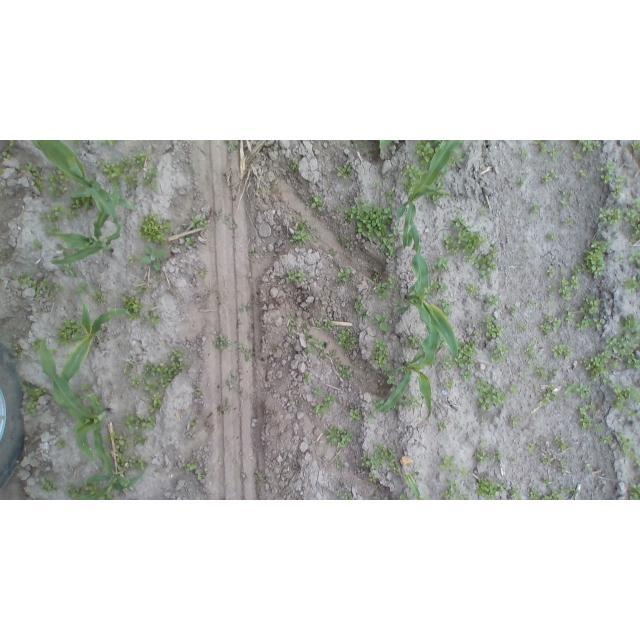Maize: (33, 141, 138, 242), (41, 333, 112, 467), (393, 247, 460, 358), (397, 141, 463, 252), (381, 302, 439, 419), (48, 183, 122, 266), (62, 305, 127, 382), (80, 472, 141, 500), (404, 474, 422, 499), (378, 141, 392, 148)
Weeds: (585, 311, 640, 383), (344, 198, 400, 263), (146, 347, 186, 415), (94, 152, 160, 192), (442, 213, 490, 263), (361, 443, 401, 482), (599, 206, 640, 243), (13, 271, 63, 300), (110, 433, 147, 472), (476, 377, 507, 412), (455, 336, 477, 384), (140, 212, 173, 244), (125, 413, 156, 447), (583, 242, 611, 279), (579, 293, 604, 330), (559, 266, 584, 301), (21, 380, 43, 419), (611, 383, 640, 412), (57, 314, 81, 347), (140, 245, 168, 272), (474, 474, 504, 499), (326, 424, 355, 449), (23, 161, 44, 194), (40, 206, 76, 225), (526, 488, 577, 501), (620, 434, 640, 467), (289, 218, 312, 246), (439, 479, 470, 499), (337, 328, 359, 356), (402, 163, 423, 192), (49, 170, 70, 197), (576, 402, 597, 429), (372, 339, 390, 370), (122, 293, 143, 319), (541, 314, 563, 338), (312, 394, 335, 416), (319, 343, 340, 366), (414, 140, 432, 166), (482, 317, 502, 340), (563, 380, 590, 396), (491, 343, 510, 365), (181, 214, 208, 228), (371, 313, 390, 332), (471, 443, 490, 462), (621, 273, 639, 293), (551, 344, 573, 360), (614, 174, 627, 200), (539, 387, 558, 404), (287, 269, 307, 285), (402, 395, 423, 410), (143, 306, 161, 323), (286, 317, 303, 335), (525, 340, 539, 361), (429, 276, 447, 292), (214, 333, 230, 351), (334, 162, 352, 178), (601, 163, 616, 182), (72, 197, 92, 211), (0, 141, 16, 158), (336, 267, 351, 285), (59, 264, 79, 277), (433, 253, 449, 269), (42, 476, 58, 492), (316, 316, 334, 330), (507, 412, 522, 428), (576, 140, 600, 150), (338, 367, 354, 382), (348, 406, 362, 423), (310, 193, 323, 211), (374, 283, 387, 301), (628, 247, 640, 266), (552, 433, 566, 449), (628, 482, 640, 500), (564, 307, 576, 325), (449, 150, 463, 165), (440, 456, 454, 471), (485, 294, 501, 307), (368, 265, 381, 281), (441, 297, 454, 313), (304, 334, 316, 351), (535, 363, 546, 381), (84, 482, 98, 496), (441, 355, 456, 368), (93, 290, 106, 305), (311, 384, 324, 399), (388, 275, 400, 291), (540, 171, 556, 183), (225, 140, 239, 153), (67, 486, 81, 499), (131, 375, 144, 389), (558, 187, 568, 205), (407, 335, 419, 350), (530, 141, 546, 152), (121, 361, 132, 377), (74, 282, 88, 294), (510, 484, 521, 499), (549, 367, 560, 382), (467, 285, 481, 296), (426, 194, 442, 203), (184, 236, 196, 248), (244, 346, 253, 362), (353, 300, 364, 313), (256, 470, 267, 483), (387, 187, 397, 201), (525, 441, 535, 453), (225, 375, 235, 387), (14, 343, 22, 358), (533, 204, 542, 217), (335, 455, 343, 469), (547, 267, 557, 278), (337, 236, 347, 247), (602, 433, 612, 444), (506, 305, 516, 316), (446, 377, 455, 389), (99, 141, 120, 146), (560, 460, 568, 473), (367, 410, 377, 420), (374, 400, 385, 409), (579, 167, 588, 178), (387, 374, 396, 385), (401, 492, 412, 501), (1, 162, 8, 176), (304, 370, 312, 382), (545, 231, 558, 238), (336, 492, 349, 499), (517, 324, 527, 333), (508, 384, 518, 393), (33, 339, 42, 349), (548, 283, 557, 293), (549, 149, 557, 160), (632, 141, 640, 152), (615, 254, 626, 262), (290, 159, 298, 170), (198, 268, 207, 277), (196, 472, 205, 481), (572, 152, 582, 160), (541, 455, 551, 463), (130, 253, 138, 263), (188, 461, 196, 471), (328, 249, 336, 259), (424, 289, 432, 299), (527, 299, 538, 306), (437, 178, 444, 189), (518, 176, 526, 185), (631, 198, 640, 206), (542, 477, 553, 483), (492, 453, 500, 461), (392, 299, 400, 307), (58, 440, 66, 448), (335, 206, 342, 215), (438, 423, 447, 430), (70, 141, 82, 146), (625, 410, 635, 416), (49, 348, 57, 355), (520, 148, 527, 156), (249, 250, 257, 257), (194, 389, 202, 396), (83, 385, 91, 392), (460, 466, 467, 474), (564, 218, 573, 224), (138, 284, 147, 290), (549, 217, 559, 222), (526, 361, 533, 368), (473, 331, 480, 338), (374, 180, 381, 187), (523, 249, 529, 256), (323, 295, 330, 301), (559, 144, 566, 150), (519, 371, 527, 376), (597, 425, 603, 431), (511, 204, 517, 209), (34, 238, 37, 248), (454, 424, 461, 428)
